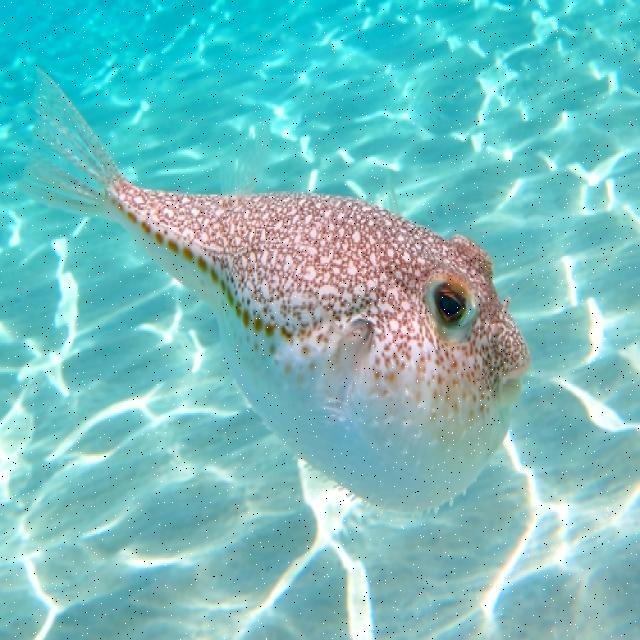Balik: (25, 72, 529, 511)
